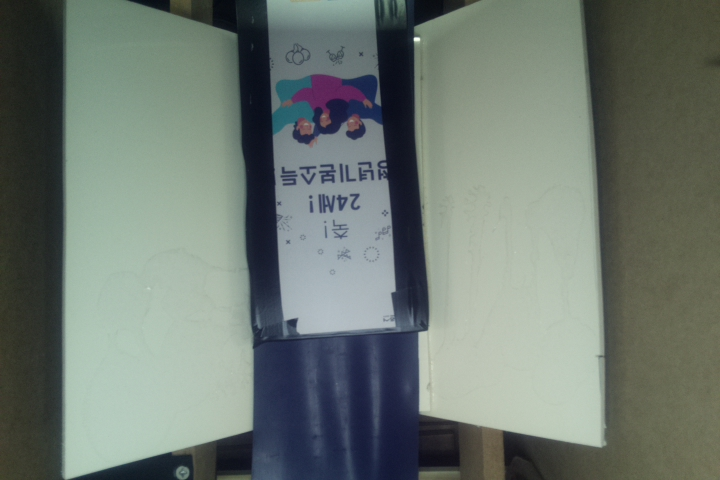book: (241, 1, 433, 345)
